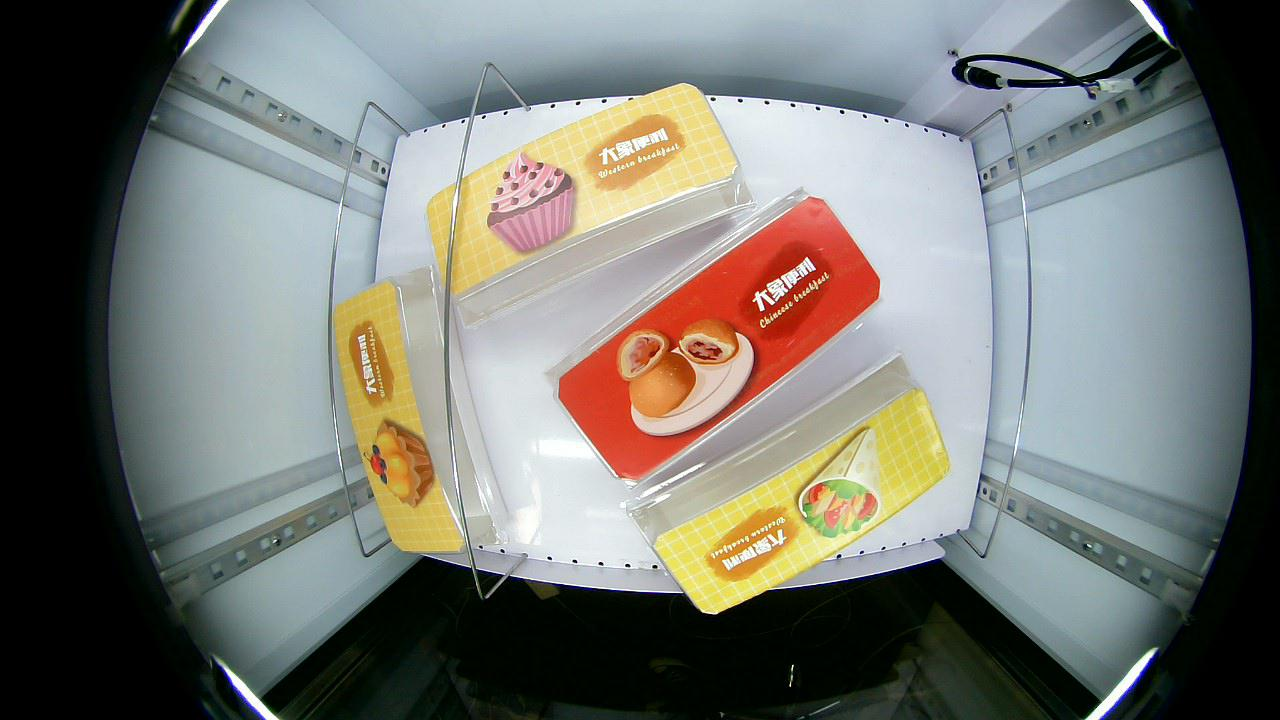goods: (617, 315, 757, 440), (482, 147, 577, 255), (797, 424, 884, 537), (369, 415, 436, 510)
